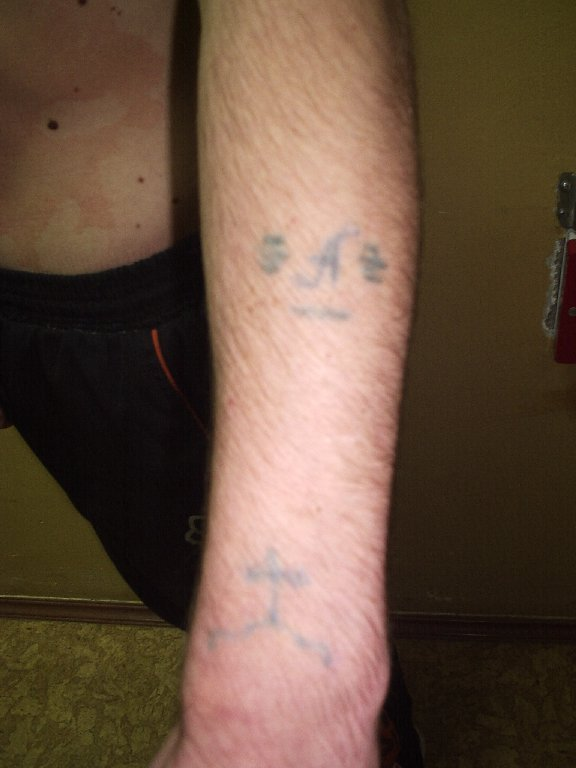tatu9_krest: (248, 538, 317, 646)
